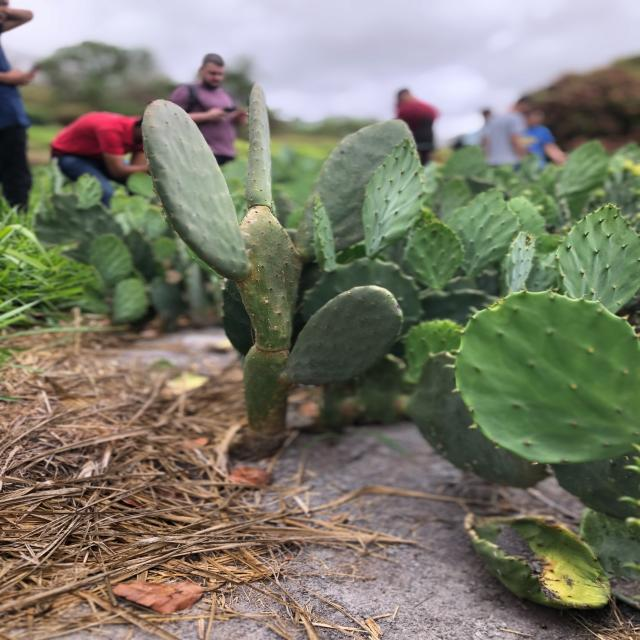Cortar: (184, 461, 307, 638), (1, 416, 100, 614), (44, 458, 180, 599), (28, 120, 128, 264), (404, 27, 514, 154), (397, 389, 479, 547), (37, 328, 150, 430), (92, 5, 179, 135)
Não cortar: (131, 85, 354, 349), (308, 175, 442, 439), (94, 214, 223, 469), (245, 423, 394, 584), (441, 86, 563, 260)
